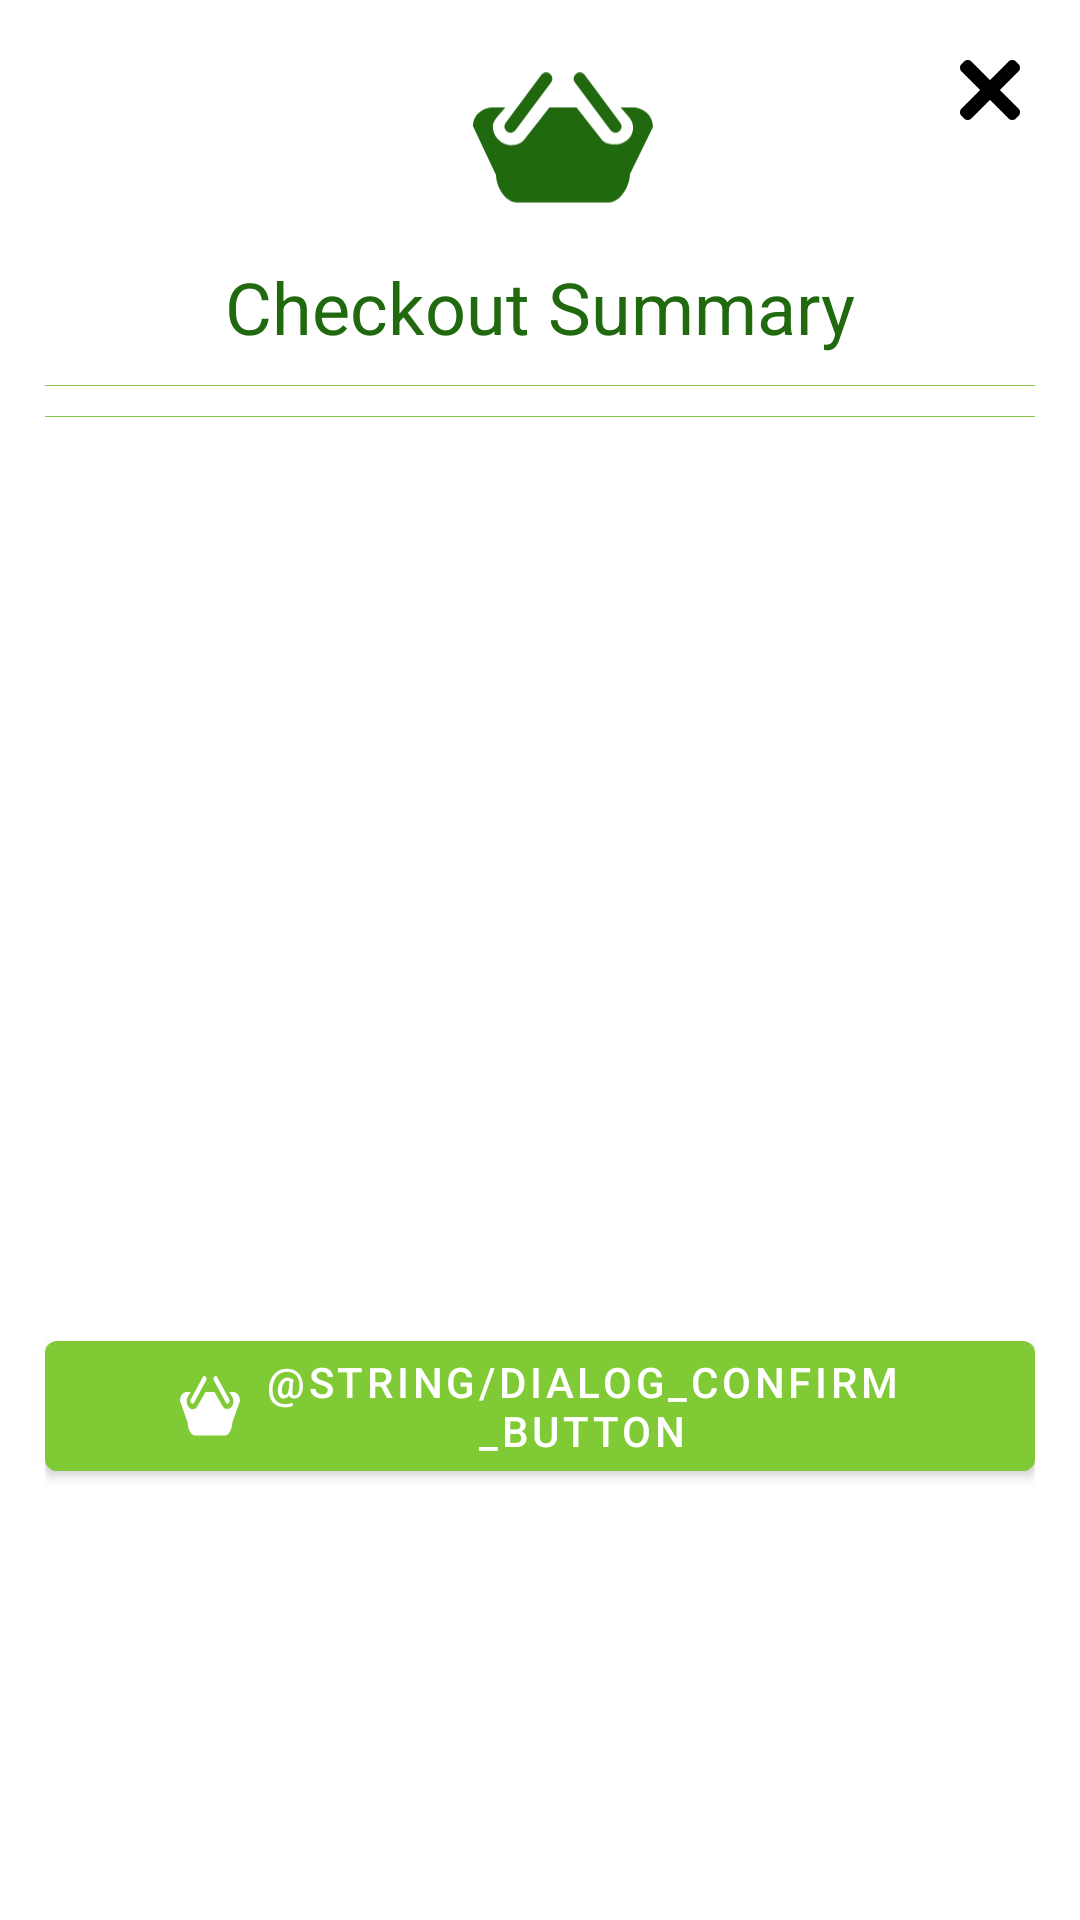

Icon click points for this 1080px×1920px phone screenshot, format point (x, y):
close: point (990, 90)
smart cart: point (563, 137)
